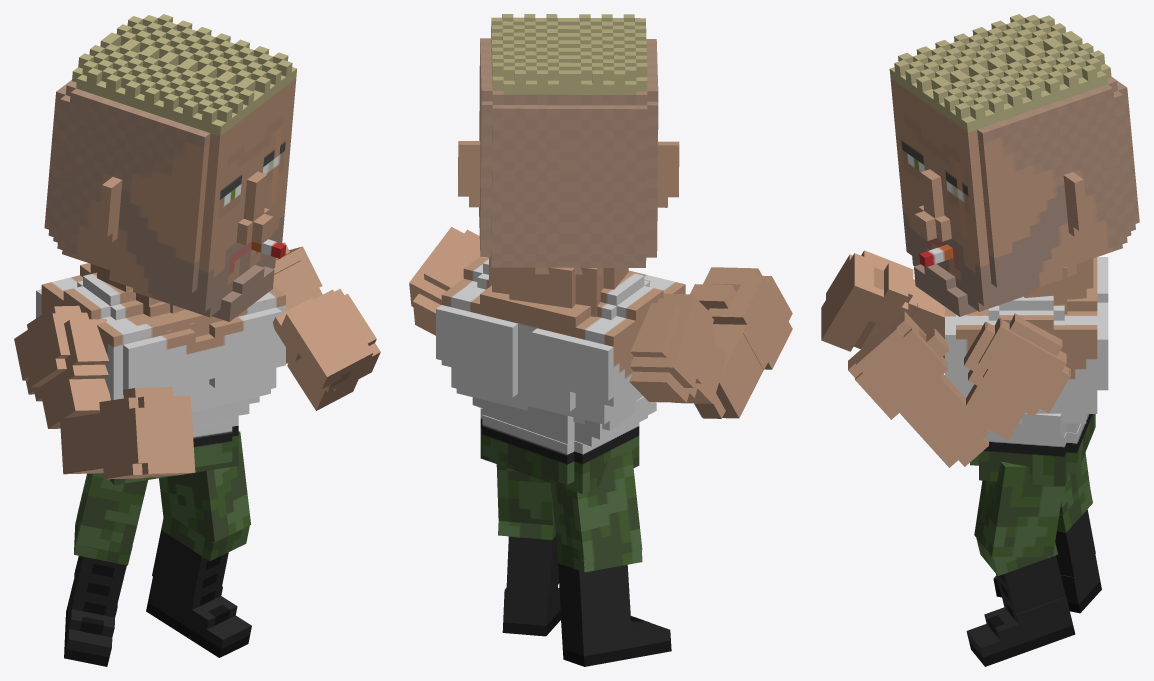
File: exotic.fbx
The picture shows the model from 3 angles, left to right: view 1: azimuth 30°, elevation 25°; view 2: azimuth 150°, elevation 25°; view 3: azimuth 270°, elevation 25°; orthographic projection.
Visible parts, largest first — view 1: Head-Local; view 2: Head-Local; view 3: Head-Local.
Part boxes in pixels (<box>): Head-Local: <box>14,14,380,666</box>; Head-Local: <box>409,14,792,666</box>; Head-Local: <box>821,14,1139,666</box>.
Bounding box in the file's own units: 301 × 595 × 293.
Materials: 1 (1 with a texture image).
